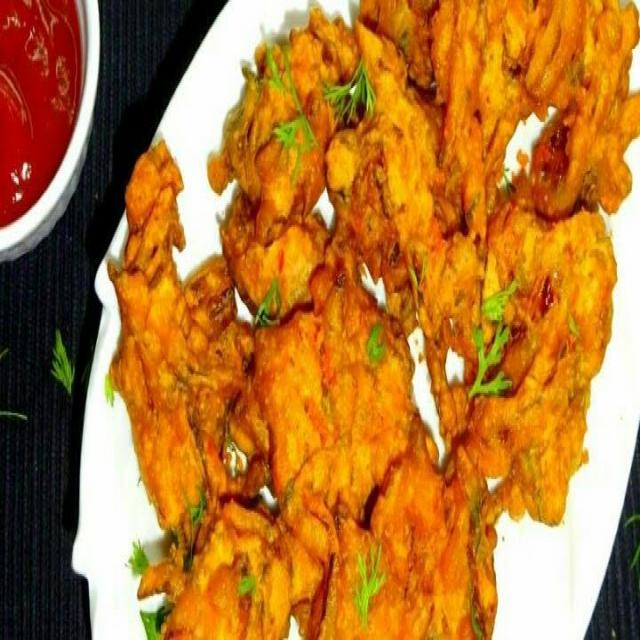Onion Pakora: (108, 3, 640, 640)
